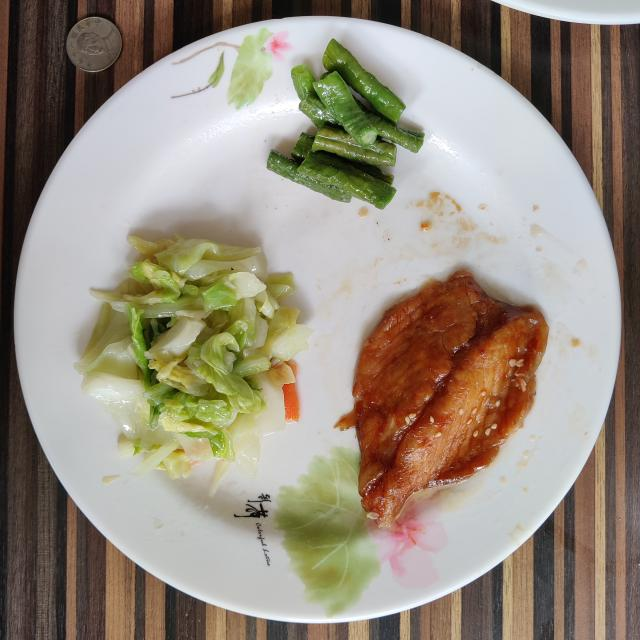Kabayaki sea bream fillet: (336, 269, 549, 526)
cabbage: (75, 235, 312, 494)
coin: (66, 16, 121, 72)
